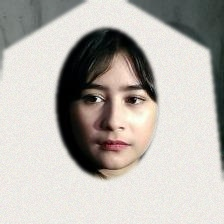Mukena: (0, 28, 218, 224)
